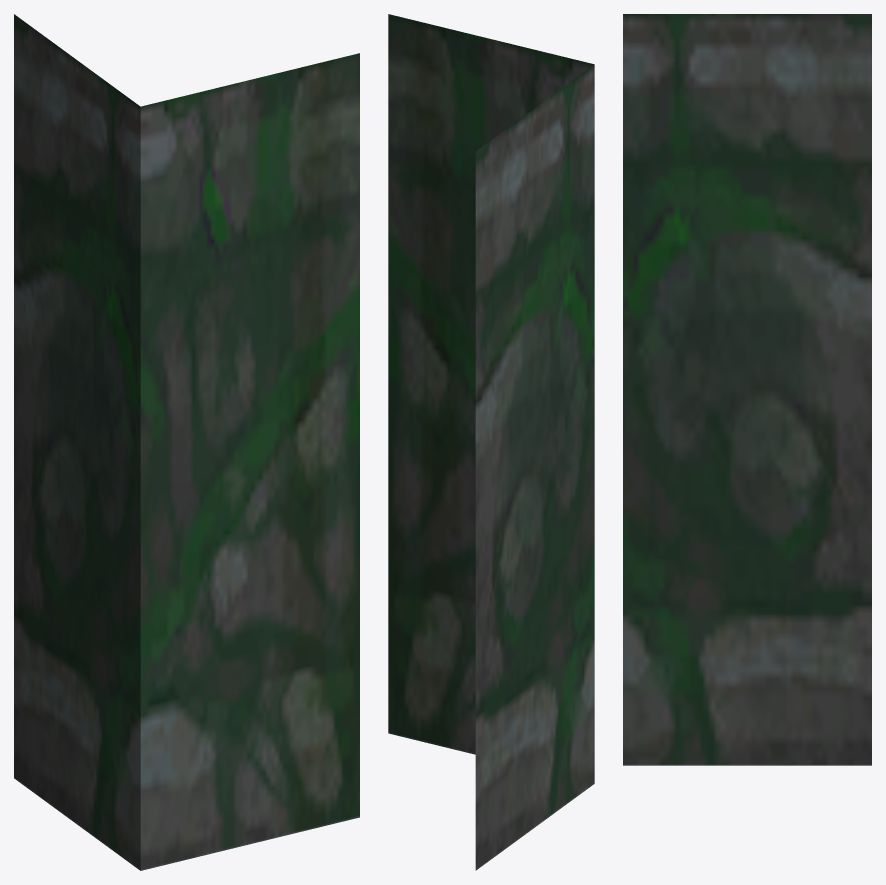
File: stemple_quarter_convex_02.fbx
3 views of the same model, side by side, from view 1: azimuth 30°, elevation 25°; view 2: azimuth 150°, elevation 25°; view 3: azimuth 270°, elevation 25° (orthographic). The views are drawn at different scales.
Parts seen in each view (by area): view 1: obj0.215; view 2: obj0.215; view 3: obj0.215.
Part boxes in pixels (x1,y1,x2,y2): obj0.215: (14,14,359,870); obj0.215: (388,14,594,870); obj0.215: (623,14,871,765).
Bounding box in the file's own units: 0.4128 × 1.38 × 0.4127.
